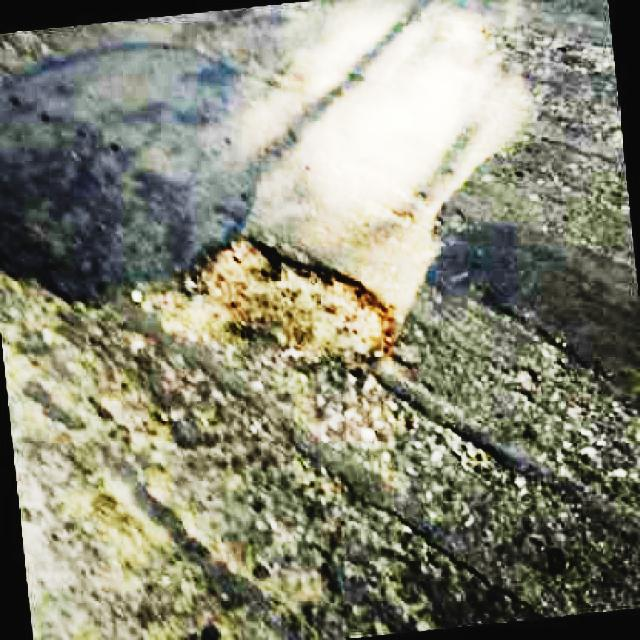pothole: (192, 229, 391, 369)
